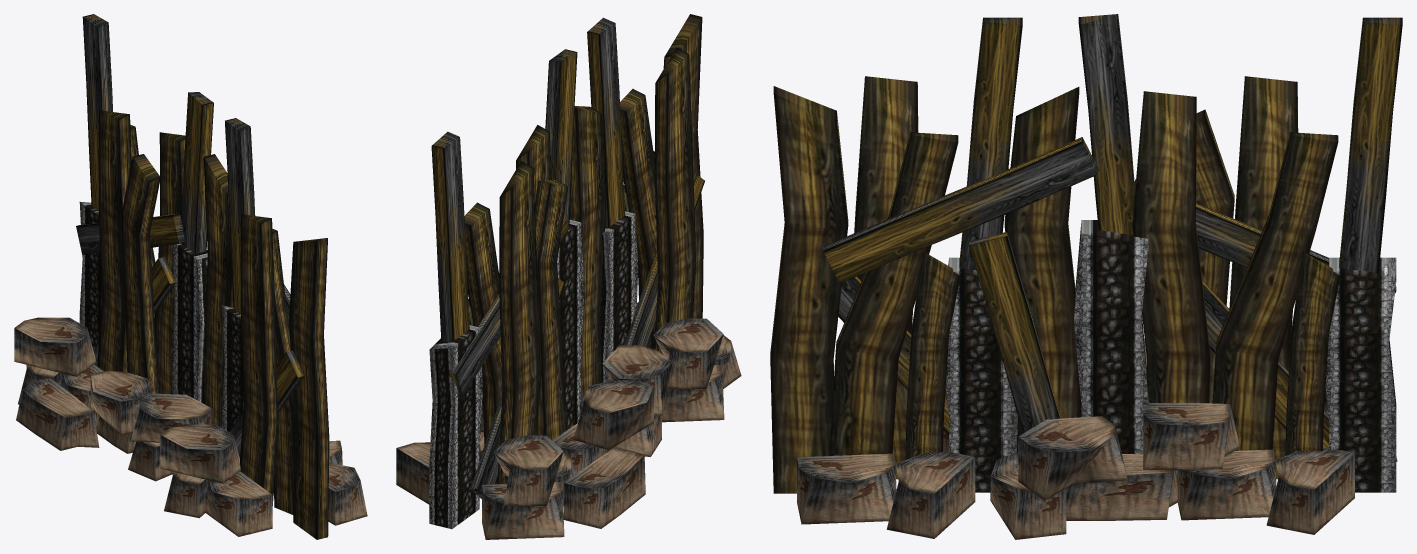
The model's file is CB_WOOD_BARACADE01.fbx.
3 renders of one model, left to right at view 1: azimuth 30°, elevation 25°; view 2: azimuth 150°, elevation 25°; view 3: azimuth 270°, elevation 25°, orthographic. The views are drawn at different scales.
Visible parts, largest first — view 1: CB_WOOD_BARACADE01; view 2: CB_WOOD_BARACADE01; view 3: CB_WOOD_BARACADE01.
Part boxes in pixels (left/top/right/bottom): CB_WOOD_BARACADE01: left=14, top=14, right=367, bottom=539; CB_WOOD_BARACADE01: left=396, top=14, right=741, bottom=539; CB_WOOD_BARACADE01: left=770, top=14, right=1402, bottom=539.
Size of the model in its own units: 22187 by 38668 by 45634.
4 materials, 4 textured.
